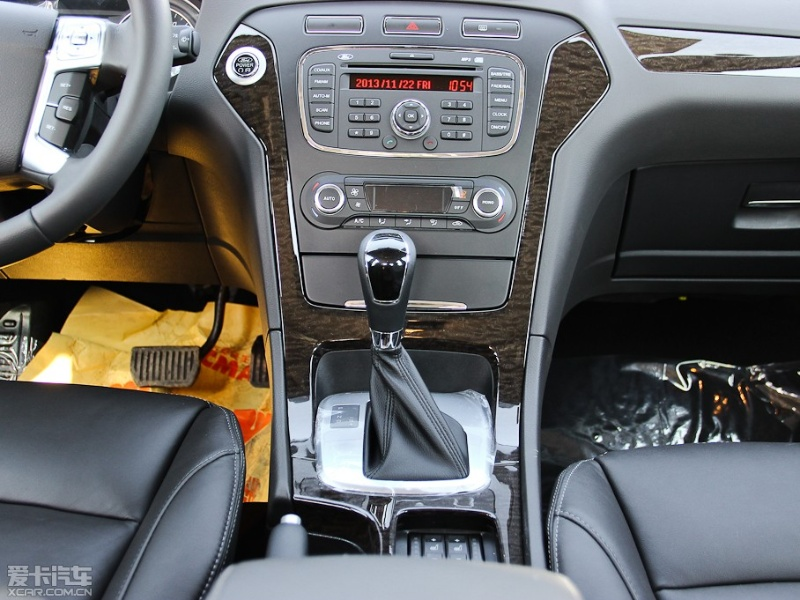control_center: (226, 10, 578, 238)
gear_lever: (300, 224, 488, 600)
steering_wheel: (1, 13, 212, 258)
